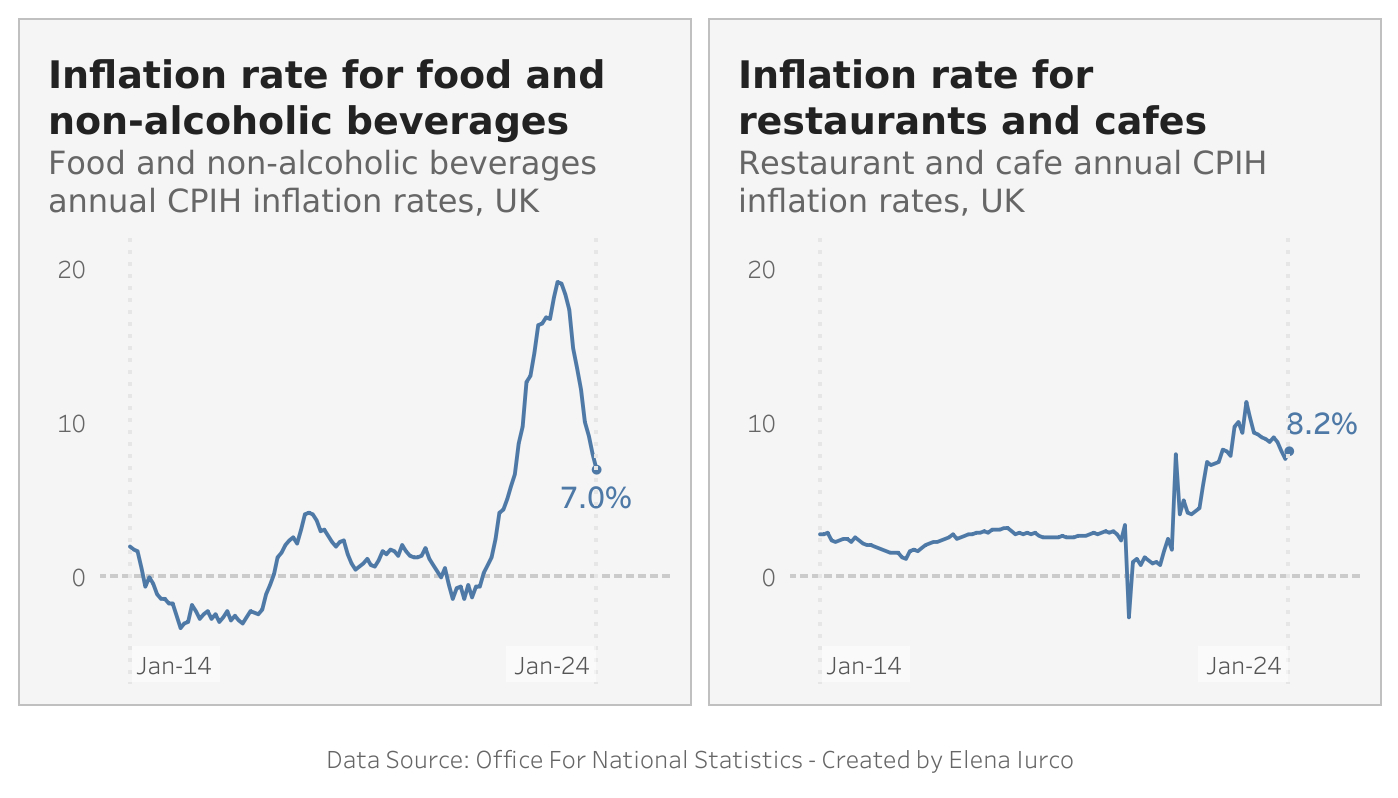

What the dashboard file says about the page in this screenshot:
{"tool":"tableau","page":{"name":"Dashboard ","canvas":[1000,1000],"units":"permille","ordinal":0},"visuals":[{"type":"worksheet","title":"Food Inflation","mark":"Automatic","rows":["F2"],"box":[7.1,12.5,492.9,880]},{"type":"worksheet","title":"Restaurant and cafe Inflation","mark":"Automatic","rows":["F2 (Restaurant and cafe inflation)"],"box":[500,12.5,492.9,880]},{"type":"text","box":[0,905,1000,95]}]}

Visuals, with their boxes on the dashboard's canvas, which has no fixed pixel size, in thousandths of its width and height (x1, y1, x2, y2). These are canvas units, not pixel positions in the 1398x798 screenshot, which may show the page scaled, cropped or inside an application window:
"Food Inflation" worksheet: crop(7, 12, 500, 892)
"Restaurant and cafe Inflation" worksheet: crop(500, 12, 993, 892)
text: crop(0, 905, 1000, 1000)
